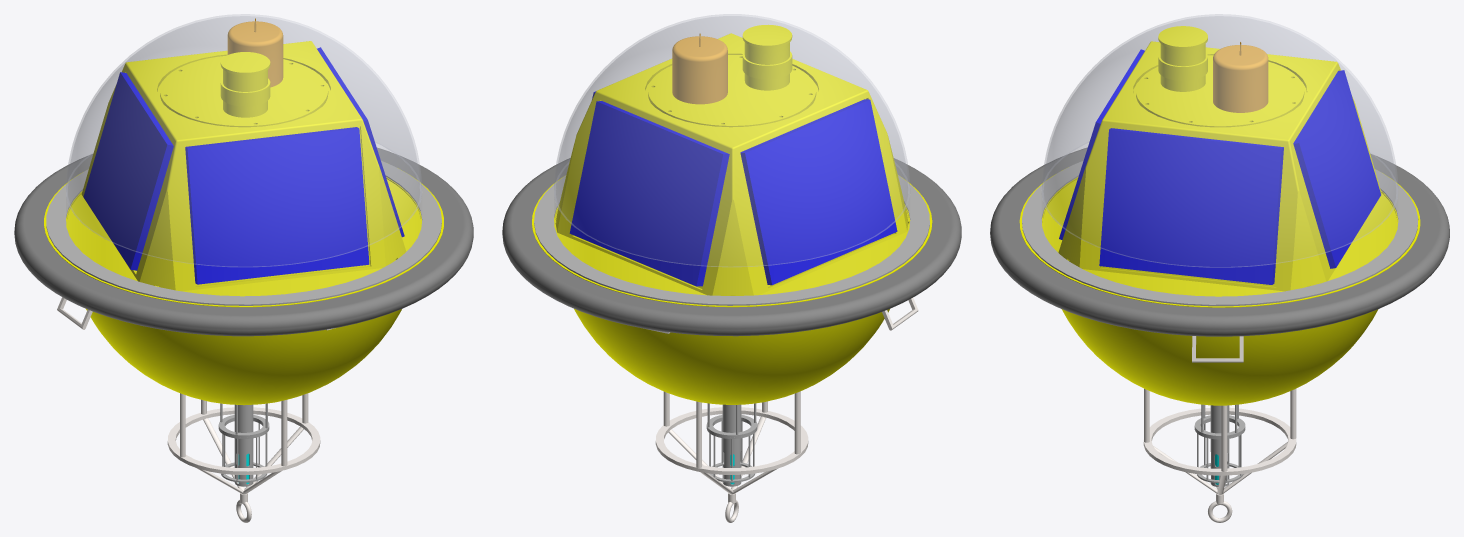
The model's file is buoy.glb.
The picture shows the model from 3 angles, left to right: view 1: azimuth 30°, elevation 25°; view 2: azimuth 150°, elevation 25°; view 3: azimuth 270°, elevation 25°; orthographic projection.
Visible parts, largest first — view 1: T_polycarbonate doom 900mm-1, T_20 w solar panel-1, T_hexagon top ncscm-1, T_Fender for NCSCM-1, T_NCSCM bottom-1, T_20 w solar panel-4, T_lid for NCSCM-1, T_Mooring point NCSCM-1, T_Part8-1, T_lantern-2, T_Aquadrop water sensor-1, T_fender flange-2 (+3 smaller); view 2: T_polycarbonate doom 900mm-1, T_hexagon top ncscm-1, T_20 w solar panel-3, T_20 w solar panel-4, T_Fender for NCSCM-1, T_NCSCM bottom-1, T_lid for NCSCM-1, T_Mooring point NCSCM-1, T_lantern-2, T_Part8-1, T_Aquadrop water sensor-1, T_Sensor protector-1 (+2 smaller); view 3: T_polycarbonate doom 900mm-1, T_20 w solar panel-2, T_hexagon top ncscm-1, T_Fender for NCSCM-1, T_NCSCM bottom-1, T_20 w solar panel-3, T_lid for NCSCM-1, T_Mooring point NCSCM-1, T_lantern-2, T_Part8-1, T_20 w solar panel-1, T_Aquadrop water sensor-1 (+3 smaller).
Part boxes in pixels (<box>): T_polycarbonate doom 900mm-1: <box>46,14,441,305</box>; T_20 w solar panel-1: <box>185,127,369,284</box>; T_hexagon top ncscm-1: <box>67,41,420,296</box>; T_Fender for NCSCM-1: <box>14,147,473,336</box>; T_NCSCM bottom-1: <box>86,285,401,405</box>; T_20 w solar panel-4: <box>83,72,173,270</box>; T_lid for NCSCM-1: <box>160,56,328,127</box>; T_Mooring point NCSCM-1: <box>167,328,335,522</box>; T_Part8-1: <box>220,52,270,117</box>; T_lantern-2: <box>227,18,283,87</box>; T_Aquadrop water sensor-1: <box>234,404,253,486</box>; T_fender flange-2: <box>44,218,443,307</box>; T_polycarbonate doom 900mm-1: <box>534,14,929,305</box>; T_hexagon top ncscm-1: <box>555,33,909,295</box>; T_20 w solar panel-3: <box>569,101,729,286</box>; T_20 w solar panel-4: <box>740,99,897,285</box>; T_Fender for NCSCM-1: <box>502,158,961,336</box>; T_NCSCM bottom-1: <box>574,295,889,404</box>; T_lid for NCSCM-1: <box>648,55,816,127</box>; T_Mooring point NCSCM-1: <box>643,328,808,522</box>; T_lantern-2: <box>672,33,727,104</box>; T_Part8-1: <box>742,24,792,90</box>; T_Aquadrop water sensor-1: <box>722,404,741,486</box>; T_Sensor protector-1: <box>706,419,757,482</box>; T_polycarbonate doom 900mm-1: <box>1022,14,1418,306</box>; T_20 w solar panel-2: <box>1099,128,1283,284</box>; T_hexagon top ncscm-1: <box>1042,41,1397,296</box>; T_Fender for NCSCM-1: <box>990,147,1449,336</box>; T_NCSCM bottom-1: <box>1061,260,1378,405</box>; T_20 w solar panel-3: <box>1293,70,1380,268</box>; T_lid for NCSCM-1: <box>1136,55,1304,127</box>; T_Mooring point NCSCM-1: <box>1143,389,1296,522</box>; T_lantern-2: <box>1213,41,1268,112</box>; T_Part8-1: <box>1158,26,1207,91</box>; T_20 w solar panel-1: <box>1059,49,1144,239</box>; T_Aquadrop water sensor-1: <box>1210,405,1229,486</box>.
Size of the model in its own units: 1.16 by 1.37 by 1.16.
